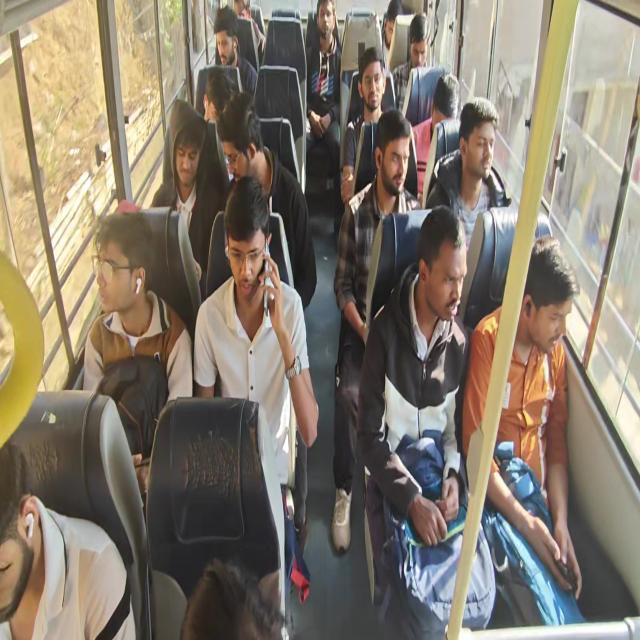person: (0, 426, 47, 626), (514, 252, 578, 349), (86, 219, 141, 315), (421, 213, 466, 318), (165, 96, 205, 195), (226, 199, 266, 287), (458, 104, 501, 184), (223, 104, 263, 188), (374, 119, 411, 196), (191, 70, 231, 128), (434, 77, 460, 140), (312, 0, 340, 46), (359, 58, 383, 110), (408, 24, 430, 73), (382, 3, 407, 45), (215, 20, 235, 66), (229, 0, 252, 27)
